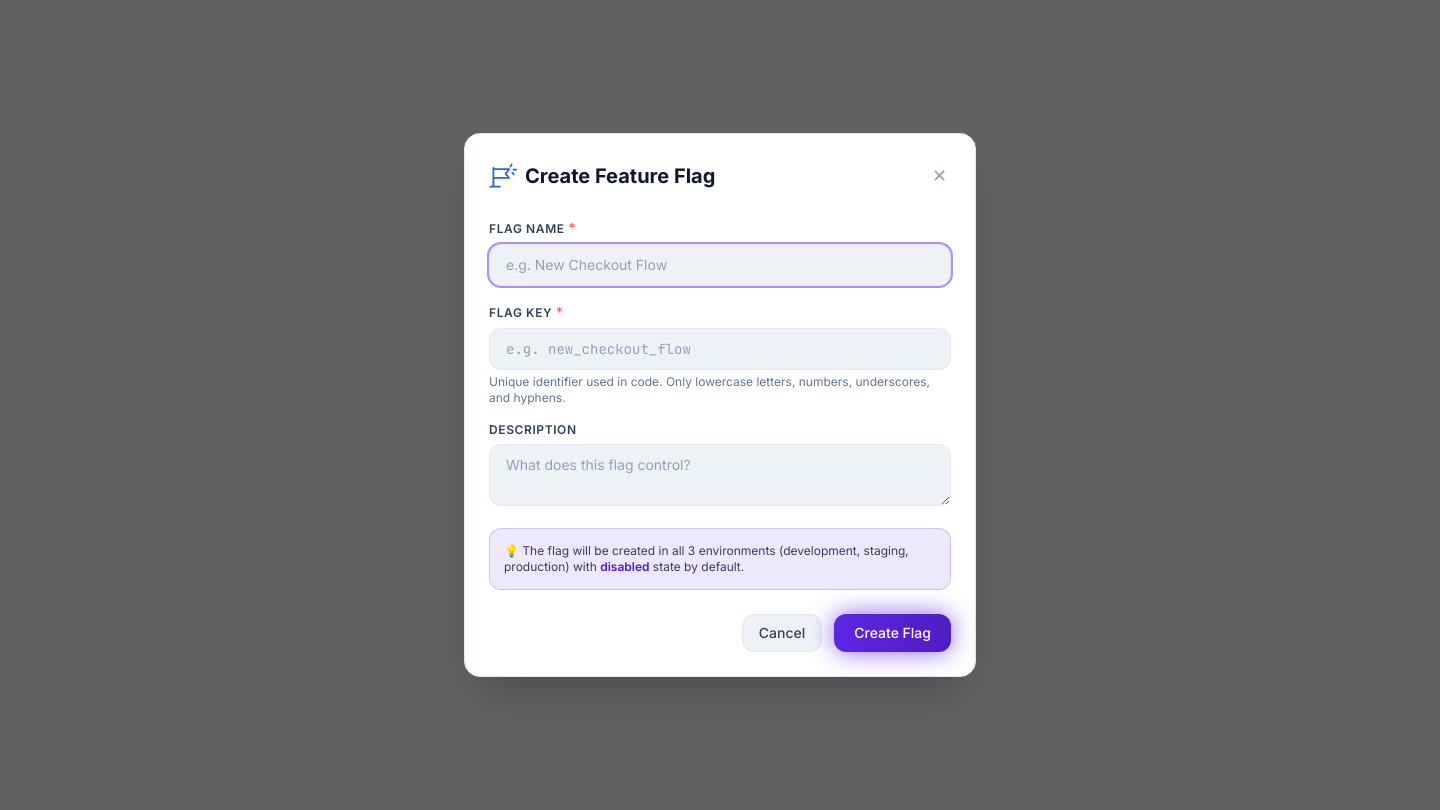
CreateFlagModal › shows validation errors when submitting empty form
The image size is (1440, 810).
Click the button "Create Flag": coordinates (893, 633) x1=834 y1=614 x2=951 y2=652
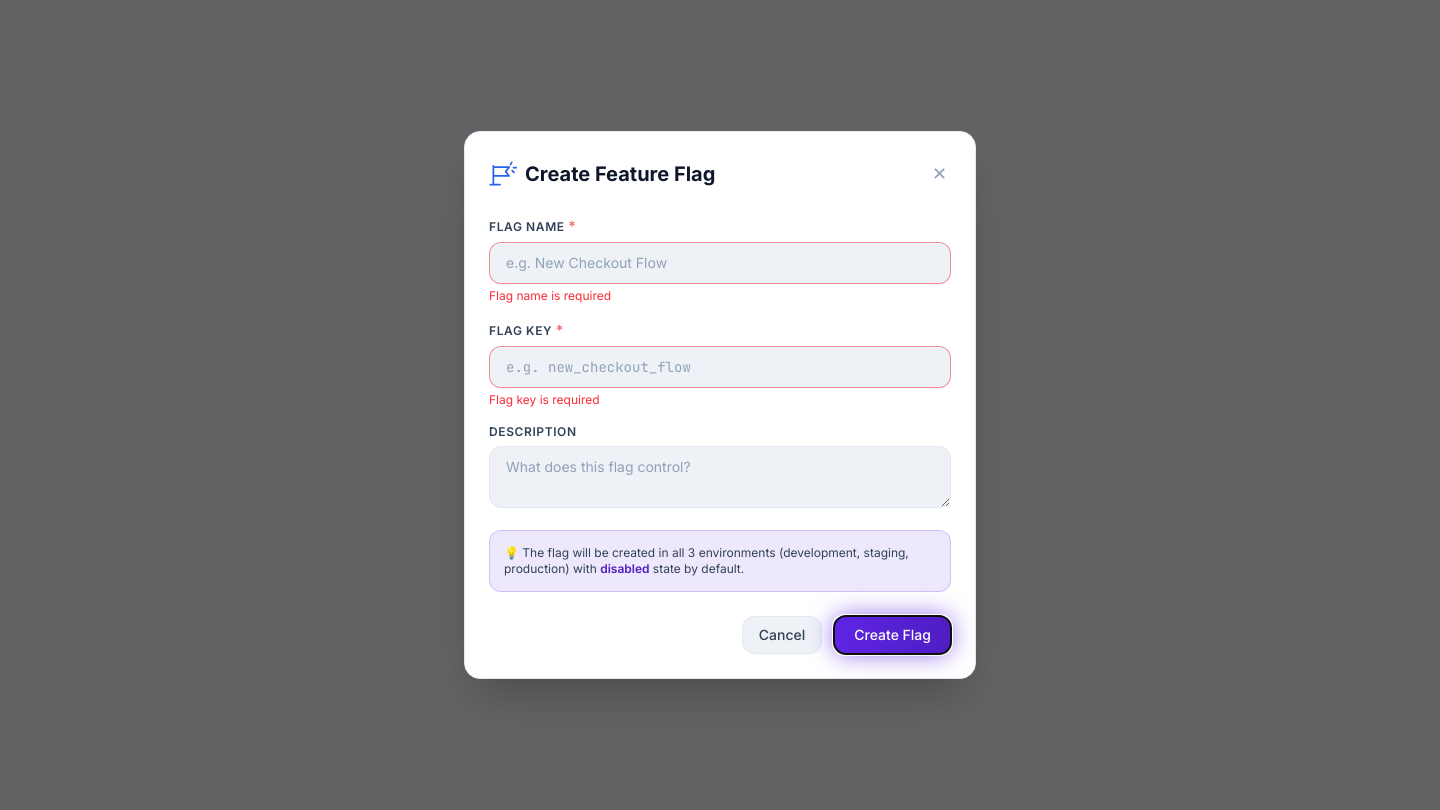
Check: the text "Flag name is required" is shown, box x1=489 y1=288 x2=611 y2=303
Check: the text "Flag key is required" is shown, box x1=489 y1=392 x2=600 y2=407
